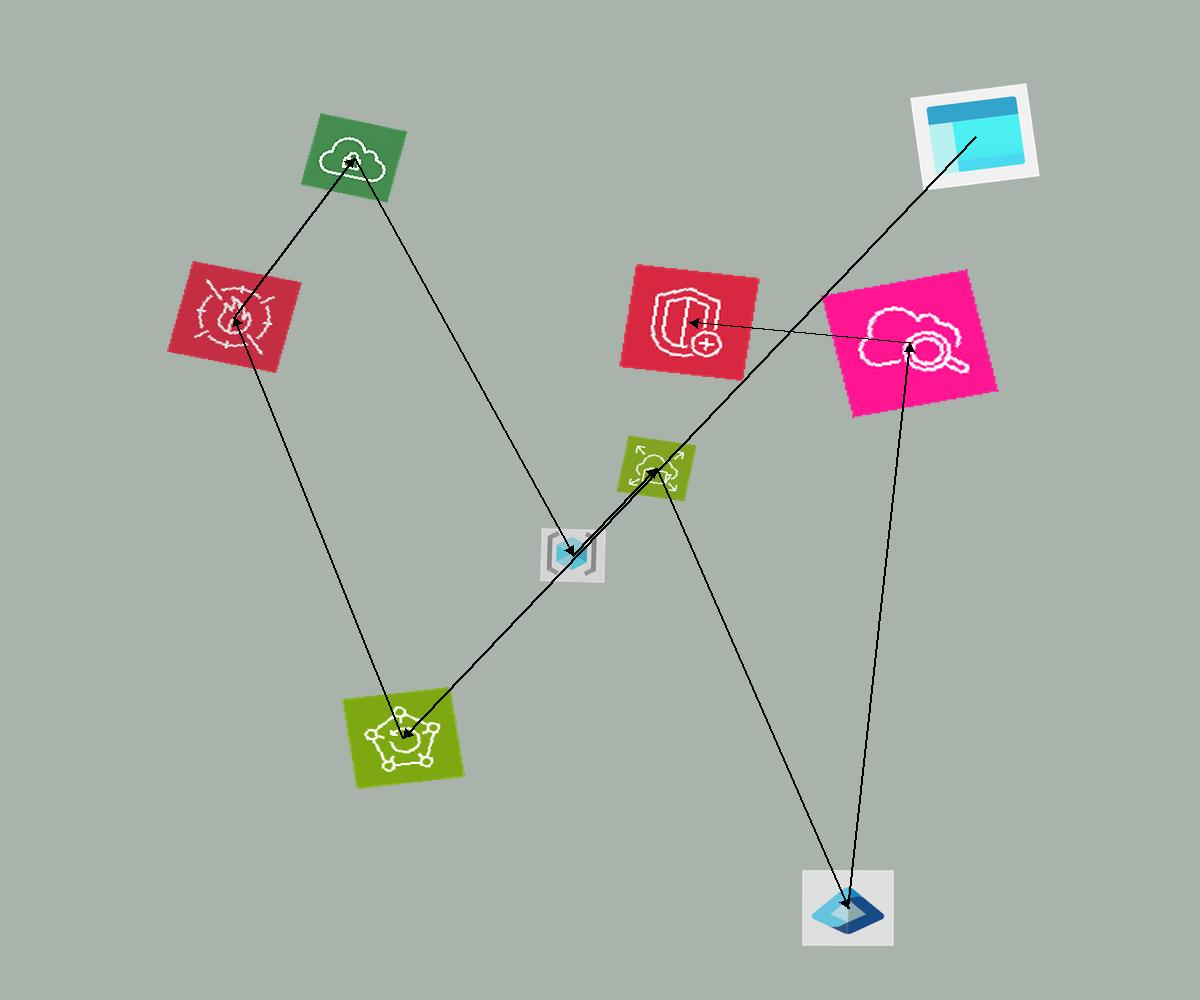AWS-Backup: (341, 686, 466, 790)
AWS-CloudWatch: (821, 269, 999, 418)
AWS-EFS: (616, 435, 697, 502)
AWS-Private_vpc: (300, 113, 408, 203)
AWS-Shield: (618, 263, 761, 382)
AWS-WAF: (166, 260, 303, 374)
Azure_management-portal: (910, 83, 1040, 191)
Azure_microsoft_entra: (802, 870, 894, 946)
Azure_resource_group: (540, 528, 606, 583)
